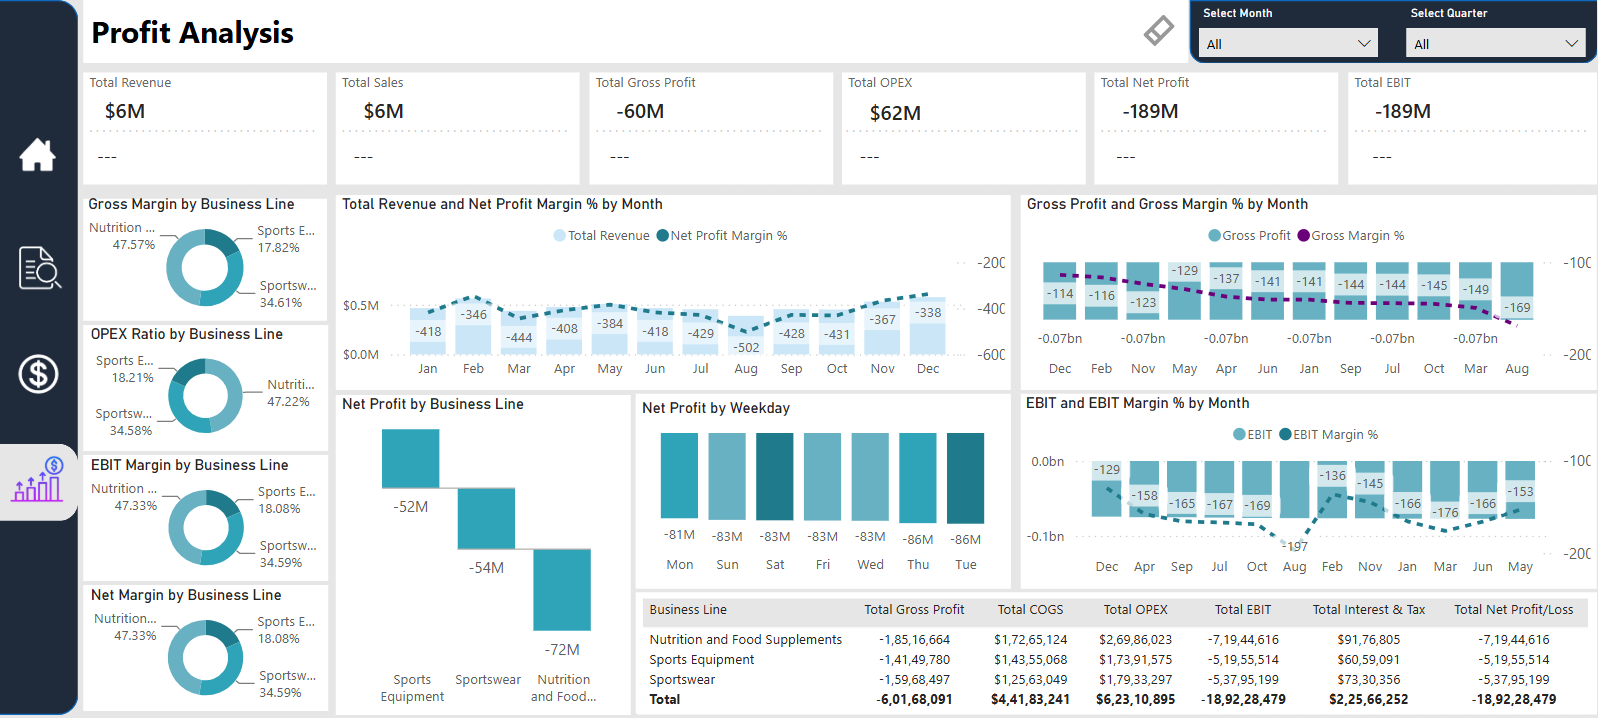

The page's visual inventory and layout, read from the dashboard file:
{"tool":"powerbi","page":{"name":"Profit","canvas":[1280,720],"ordinal":3},"visuals":[{"type":"group","id":"g1","title":"Home Tab","box":[0,0,65.7,572],"z":0},{"type":"shape","box":[0,0,65,572],"z":0,"group":"g1"},{"type":"shape","box":[69,0,884,51],"z":0,"group":"g3"},{"type":"shape","box":[953.5,0,327,51],"z":0,"group":"g5"},{"type":"shape","title":"Revenue","box":[69,58,195,90],"z":0,"group":"g12"},{"type":"shape","title":"Sales","box":[271,58,195,90],"z":0,"group":"g6"},{"type":"shape","title":"Expense","box":[474,58,195,90],"z":0,"group":"g10"},{"type":"shape","title":"Gross Profit","box":[676,58,195,90],"z":0,"group":"g4"},{"type":"shape","title":"COGS","box":[878,58,195,90],"z":0,"group":"g8"},{"type":"group","id":"g2","title":"Total EBIT","box":[1073,58,207,90],"z":0,"group":"g7"},{"type":"shape","title":"Net Profit","box":[1081,58,199,90],"z":0,"group":"g2"},{"type":"shape","box":[271.4,155.7,540,155.7],"z":0,"group":"g15"},{"type":"shape","box":[818.6,155.7,461.4,155.7],"z":0,"group":"g14"},{"type":"shape","title":"Revenue","box":[68.9,159,195.7,97.5],"z":0,"group":"g21"},{"type":"shape","title":"Revenue","box":[68.6,260,195.7,101.4],"z":0,"group":"g20"},{"type":"shape","box":[511.4,315,300,155.7],"z":0,"group":"g13"},{"type":"shape","box":[818.6,315,461.4,155.7],"z":0,"group":"g16"},{"type":"shape","box":[271.4,315.7,236,255.7],"z":0,"group":"g11"},{"type":"shape","box":[0,355,65,61.7],"z":0,"group":"g9"},{"type":"shape","title":"Revenue","box":[68.6,364,195.7,101.4],"z":0,"group":"g19"},{"type":"shape","title":"Revenue","box":[68.6,468,195.7,101.4],"z":0,"group":"g18"},{"type":"shape","box":[511.4,474.3,768.6,97.1],"z":0,"group":"g17"},{"type":"group","id":"g3","title":"Profit Analysis","box":[69,0,884,51],"z":1000},{"type":"actionButton","box":[906,0,47,50],"z":1000,"group":"g3"},{"type":"slicer","title":"Month","fields":{"Values":["Date Table.Month"]},"box":[951.7,0.5,162.9,50.7],"z":1000,"group":"g5"},{"type":"cardVisual","title":"Revenue Card","fields":{"Data":["Membership_Payments.Total Revenue"]},"box":[57,58,98,57],"z":1000,"group":"g12"},{"type":"cardVisual","title":"Sales Card","fields":{"Data":["Membership_Payments.Total Revenue"]},"box":[264,58,105,57],"z":1000,"group":"g6"},{"type":"cardVisual","title":"Expenses Card","fields":{"Data":["Trainer_Operations.Gross Profit"]},"box":[466,58,110,57],"z":1000,"group":"g10"},{"type":"group","id":"g4","title":"Total OPEX","box":[669,58,202,90],"z":1000,"group":"g7"},{"type":"cardVisual","title":"COGS Card","fields":{"Data":["Trainer_Operations.Net Profit"]},"box":[871,58,105,57],"z":1000,"group":"g8"},{"type":"cardVisual","title":"Net Profit Card","fields":{"Data":["Membership_Payments.EBIT"]},"box":[1073,58,160,57],"z":1000,"group":"g2"},{"type":"cardVisual","title":"Gross Profit Card","fields":{"Data":["Expenses.OPEX"]},"box":[669,61.6,106.2,53.1],"z":1000,"group":"g4"},{"type":"lineClusteredColumnComboChart","fields":{"Y":["Membership_Payments.Total Revenue"],"Category":["Membership_Payments.Month"],"Y2":["Membership_Payments.Net Profit Margin %"]},"box":[271.4,155.7,540,155.7],"z":1000,"group":"g15"},{"type":"lineClusteredColumnComboChart","fields":{"Y":["Trainer_Operations.Gross Profit"],"Y2":["Membership_Payments.Gross Margin %"],"Category":["Date Table.Month"]},"box":[818.6,155.7,461.4,155.7],"z":1000,"group":"g14"},{"type":"donutChart","title":"Gross Margin by Business Line","fields":{"Y":["Membership_Payments.Gross Margin %"],"Category":["Membership_Payments.Business Line"]},"box":[68.3,155.8,196.7,102.5],"z":1000,"group":"g21"},{"type":"donutChart","title":"OPEX Ratio by Business Line","fields":{"Category":["Membership_Payments.Business Line"],"Y":["Membership_Payments.Opex Ratio"]},"box":[69.2,260,194.2,100],"z":1000,"group":"g20"},{"type":"image","title":"Dollar Icon","box":[0,276,65.7,47],"z":1000,"group":"g1"},{"type":"lineClusteredColumnComboChart","fields":{"Y2":["Membership_Payments.EBIT Margin %"],"Category":["Date Table.Month"],"Y":["Membership_Payments.EBIT"]},"box":[818,314.9,462.1,155.6],"z":1000,"group":"g16"},{"type":"waterfallChart","fields":{"Y":["Trainer_Operations.Net Profit"],"Category":["Branch_Performance.Business Line"]},"box":[271.4,315.7,235.7,255.7],"z":1000,"group":"g11"},{"type":"clusteredColumnChart","fields":{"Y":["Trainer_Operations.Net Profit"],"Category":["Date Table.Weekday"]},"box":[511.4,318.6,300,150],"z":1000,"group":"g13"},{"type":"image","title":"Dollar Growth icon","box":[0,360,64.2,47.2],"z":1000,"group":"g9"},{"type":"donutChart","title":"EBIT Margin by Business Line","fields":{"Category":["Membership_Payments.Business Line"],"Y":["Membership_Payments.EBIT Margin %"]},"box":[69.2,365,195,100.8],"z":1000,"group":"g19"},{"type":"donutChart","title":"Net Margin by Business Line","fields":{"Category":["Membership_Payments.Business Line"],"Y":["Membership_Payments.Net Margin %"]},"box":[69.2,469.2,194.2,100.8],"z":1000,"group":"g18"},{"type":"pivotTable","fields":{"Values":["Trainer_Operations.Gross Profit","Expenses.COGS","Expenses.OPEX","Membership_Payments.EBIT","Expenses.Total Interest & Tax","Trainer_Operations.Net Profit"],"Rows":["Branch_Performance.Business Line"]},"box":[512,474.4,768,97.4],"z":1000,"group":"g17"},{"type":"group","id":"g5","title":"Slicers","box":[951.7,0,328.3,51.5],"z":2000},{"type":"slicer","title":"Quarter","fields":{"Values":["Date Table.Quarter"]},"box":[1118.2,0.5,162.9,50.7],"z":2000,"group":"g5"},{"type":"group","id":"g6","title":"Total Sales","box":[264,58,202,90],"z":2000,"group":"g7"},{"type":"image","title":"Home icon","box":[0,102,65,47],"z":2000,"group":"g1"},{"type":"textbox","title":"Revenue box 2","box":[75,110,31,29],"z":2000,"group":"g12"},{"type":"textbox","title":"Sales box 2","box":[280,110,31,29],"z":2000,"group":"g6"},{"type":"textbox","title":"Expense box 2","box":[485,110,31,29],"z":2000,"group":"g10"},{"type":"textbox","title":"Gross Profit box 2","box":[685,110,31,29],"z":2000,"group":"g4"},{"type":"textbox","title":"COGS box 2","box":[890,110,31,29],"z":2000,"group":"g8"},{"type":"textbox","title":"Net profit box 2","box":[1095,110,31,29],"z":2000,"group":"g2"},{"type":"group","id":"g7","title":"KPI Cards","box":[57,58,1223,90],"z":3000},{"type":"group","id":"g8","title":"Total Net Profit","box":[871,58,202,90],"z":3000,"group":"g7"},{"type":"textbox","title":"Revenue box 1","box":[69,85.6,195,35],"z":3000,"group":"g12"},{"type":"textbox","title":"Sales box 1","box":[271,85.6,195,35],"z":3000,"group":"g6"},{"type":"textbox","title":"Expense box 1","box":[474,85.6,195,35],"z":3000,"group":"g10"},{"type":"textbox","title":"Gross Profit box 1","box":[674,85.6,197,35],"z":3000,"group":"g4"},{"type":"textbox","title":"COGS box 1","box":[878,85.6,195,35],"z":3000,"group":"g8"},{"type":"textbox","title":"Net Profit box 1","box":[1081,85.6,199,35],"z":3000,"group":"g2"},{"type":"group","id":"g9","title":"Dollar Growth Icon","box":[0,355,65,61.7],"z":3000,"group":"g1"},{"type":"group","id":"g10","title":"Total Gross Profit","box":[466,58,203,90],"z":4000,"group":"g7"},{"type":"image","title":"Search Icon","box":[0,191,65,47],"z":4000,"group":"g1"},{"type":"group","id":"g11","title":"Waterfall chart","box":[271.4,315.7,236,255.7],"z":4000},{"type":"group","id":"g12","title":"Total Revenue","box":[57,58,207,90],"z":5000,"group":"g7"},{"type":"group","id":"g13","title":"Column Chart","box":[511.4,315,300,155.7],"z":5000},{"type":"group","id":"g14","title":"Column with line 2","box":[818.6,155.7,461.4,155.7],"z":6000},{"type":"group","id":"g15","title":"Column with line 1","box":[271.4,155.7,540,155.7],"z":7000},{"type":"group","id":"g16","title":"Column with line 3","box":[818,314.9,462.1,155.8],"z":8000},{"type":"group","id":"g17","title":"Table","box":[511.4,474.3,768.6,97.5],"z":9000},{"type":"group","id":"g18","title":"Pie Chart 4","box":[68.6,468,195.7,102],"z":10500},{"type":"group","id":"g19","title":"Pie Chart 3","box":[68.6,364,195.7,101.8],"z":11000},{"type":"group","id":"g20","title":"Pie Chart 2","box":[68.6,260,195.7,101.4],"z":12000},{"type":"group","id":"g21","title":"Pie Chart 1","box":[68.3,155.8,196.7,102.5],"z":12500}]}

Visuals, with their boxes on the page's 1280x720 design canvas (x1, y1, x2, y2). These are canvas units, not pixel positions in the 1598x718 screenshot, which may show the page scaled, cropped or inside an application window:
"Home Tab" group: <region>0, 0, 66, 572</region>
shape: <region>0, 0, 65, 572</region>
shape: <region>69, 0, 953, 51</region>
shape: <region>954, 0, 1280, 51</region>
"Revenue" shape: <region>69, 58, 264, 148</region>
"Sales" shape: <region>271, 58, 466, 148</region>
"Expense" shape: <region>474, 58, 669, 148</region>
"Gross Profit" shape: <region>676, 58, 871, 148</region>
"COGS" shape: <region>878, 58, 1073, 148</region>
"Total EBIT" group: <region>1073, 58, 1280, 148</region>
"Net Profit" shape: <region>1081, 58, 1280, 148</region>
shape: <region>271, 156, 811, 311</region>
shape: <region>819, 156, 1280, 311</region>
"Revenue" shape: <region>69, 159, 265, 256</region>
"Revenue" shape: <region>69, 260, 264, 361</region>
shape: <region>511, 315, 811, 471</region>
shape: <region>819, 315, 1280, 471</region>
shape: <region>271, 316, 507, 571</region>
shape: <region>0, 355, 65, 417</region>
"Revenue" shape: <region>69, 364, 264, 465</region>
"Revenue" shape: <region>69, 468, 264, 569</region>
shape: <region>511, 474, 1280, 571</region>
"Profit Analysis" group: <region>69, 0, 953, 51</region>
actionButton: <region>906, 0, 953, 50</region>
"Month" slicer: <region>952, 0, 1115, 51</region>
"Revenue Card" cardVisual: <region>57, 58, 155, 115</region>
"Sales Card" cardVisual: <region>264, 58, 369, 115</region>
"Expenses Card" cardVisual: <region>466, 58, 576, 115</region>
"Total OPEX" group: <region>669, 58, 871, 148</region>
"COGS Card" cardVisual: <region>871, 58, 976, 115</region>
"Net Profit Card" cardVisual: <region>1073, 58, 1233, 115</region>
"Gross Profit Card" cardVisual: <region>669, 62, 775, 115</region>
lineClusteredColumnComboChart - Membership_Payments.Total Revenue x Membership_Payments.Month: <region>271, 156, 811, 311</region>
lineClusteredColumnComboChart - Trainer_Operations.Gross Profit x Membership_Payments.Gross Margin %: <region>819, 156, 1280, 311</region>
"Gross Margin by Business Line" donutChart: <region>68, 156, 265, 258</region>
"OPEX Ratio by Business Line" donutChart: <region>69, 260, 263, 360</region>
"Dollar Icon" image: <region>0, 276, 66, 323</region>
lineClusteredColumnComboChart - Membership_Payments.EBIT Margin % x Date Table.Month: <region>818, 315, 1280, 470</region>
waterfallChart - Trainer_Operations.Net Profit x Branch_Performance.Business Line: <region>271, 316, 507, 571</region>
clusteredColumnChart - Trainer_Operations.Net Profit x Date Table.Weekday: <region>511, 319, 811, 469</region>
"Dollar Growth icon" image: <region>0, 360, 64, 407</region>
"EBIT Margin by Business Line" donutChart: <region>69, 365, 264, 466</region>
"Net Margin by Business Line" donutChart: <region>69, 469, 263, 570</region>
pivotTable - Trainer_Operations.Gross Profit x Expenses.COGS: <region>512, 474, 1280, 572</region>
"Slicers" group: <region>952, 0, 1280, 52</region>
"Quarter" slicer: <region>1118, 0, 1281, 51</region>
"Total Sales" group: <region>264, 58, 466, 148</region>
"Home icon" image: <region>0, 102, 65, 149</region>
"Revenue box 2" textbox: <region>75, 110, 106, 139</region>
"Sales box 2" textbox: <region>280, 110, 311, 139</region>
"Expense box 2" textbox: <region>485, 110, 516, 139</region>
"Gross Profit box 2" textbox: <region>685, 110, 716, 139</region>
"COGS box 2" textbox: <region>890, 110, 921, 139</region>
"Net profit box 2" textbox: <region>1095, 110, 1126, 139</region>
"KPI Cards" group: <region>57, 58, 1280, 148</region>
"Total Net Profit" group: <region>871, 58, 1073, 148</region>
"Revenue box 1" textbox: <region>69, 86, 264, 121</region>
"Sales box 1" textbox: <region>271, 86, 466, 121</region>
"Expense box 1" textbox: <region>474, 86, 669, 121</region>
"Gross Profit box 1" textbox: <region>674, 86, 871, 121</region>
"COGS box 1" textbox: <region>878, 86, 1073, 121</region>
"Net Profit box 1" textbox: <region>1081, 86, 1280, 121</region>
"Dollar Growth Icon" group: <region>0, 355, 65, 417</region>
"Total Gross Profit" group: <region>466, 58, 669, 148</region>
"Search Icon" image: <region>0, 191, 65, 238</region>
"Waterfall chart" group: <region>271, 316, 507, 571</region>
"Total Revenue" group: <region>57, 58, 264, 148</region>
"Column Chart" group: <region>511, 315, 811, 471</region>
"Column with line 2" group: <region>819, 156, 1280, 311</region>
"Column with line 1" group: <region>271, 156, 811, 311</region>
"Column with line 3" group: <region>818, 315, 1280, 471</region>
"Table" group: <region>511, 474, 1280, 572</region>
"Pie Chart 4" group: <region>69, 468, 264, 570</region>
"Pie Chart 3" group: <region>69, 364, 264, 466</region>
"Pie Chart 2" group: <region>69, 260, 264, 361</region>
"Pie Chart 1" group: <region>68, 156, 265, 258</region>
